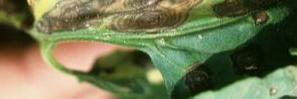Tomato Early blight leaf: (29, 0, 297, 99)
